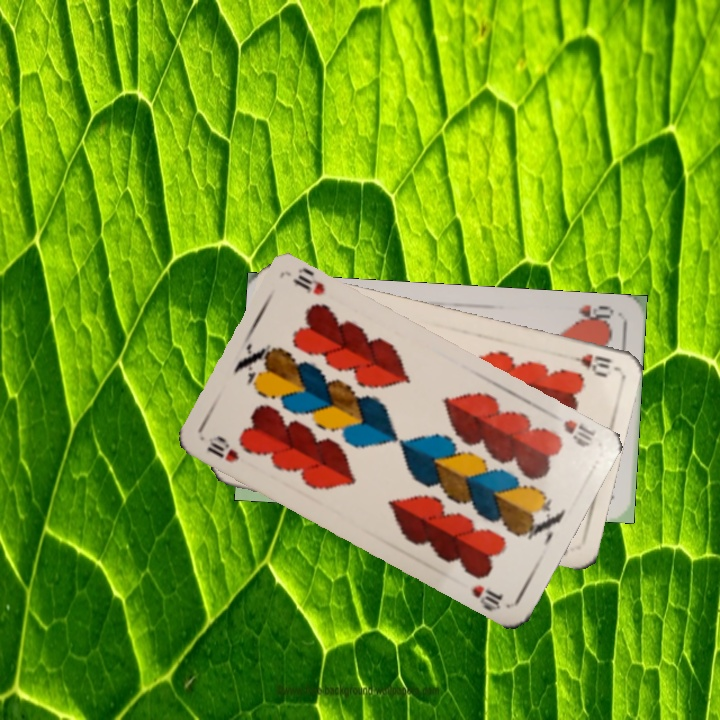H10: (560, 349, 615, 379), (559, 415, 599, 450), (203, 431, 242, 465)
HO: (571, 301, 616, 327)
